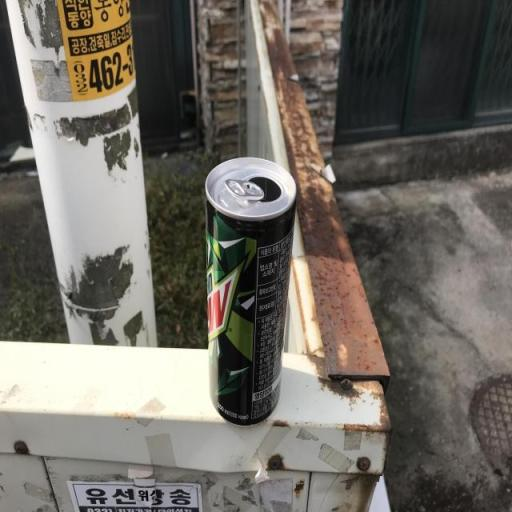metal: (184, 130, 301, 444)
